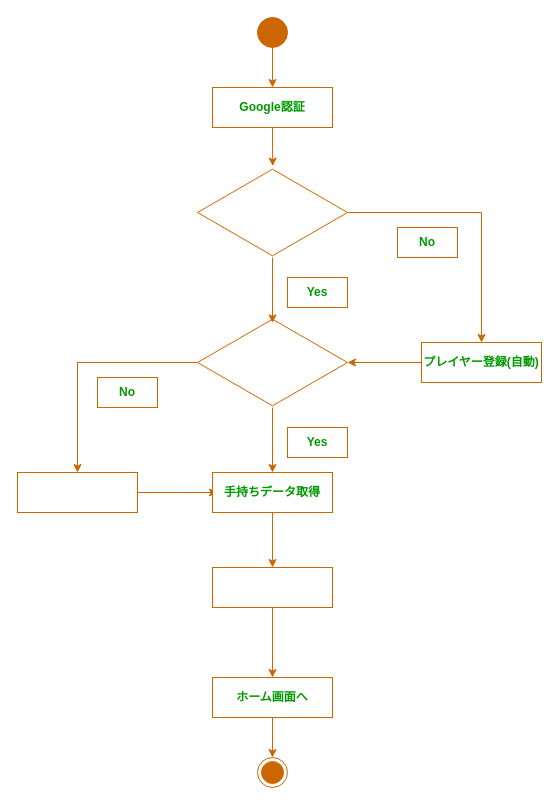
This 559x805 diagram has some shape labels left out. The shapes that lost their labels are listed below. From the top down, each one's centre as x and y in pixels, then its label:
At point 272,212: "プレイヤーデータ 問い合わせ".
At point 272,362: "ポケモンを所持 しているか".
At point 77,492: "初期ポケモン 選択画面".
At point 272,587: "技データ取得".
